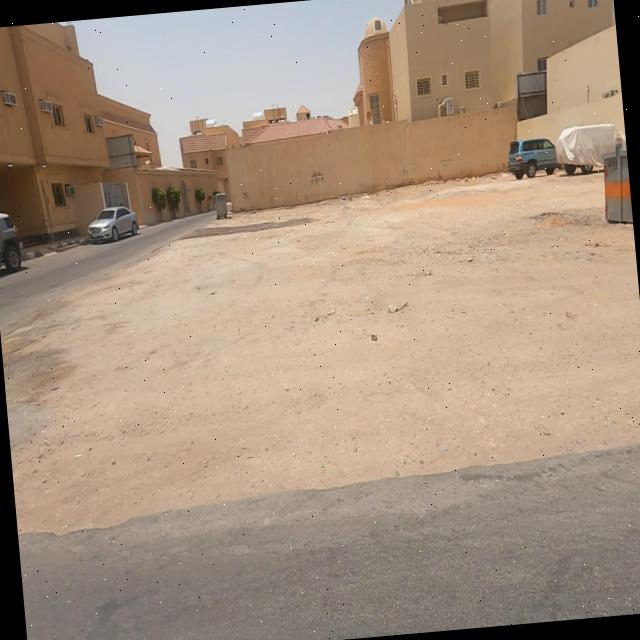Graffiti: (309, 169, 326, 187), (242, 185, 250, 201)
